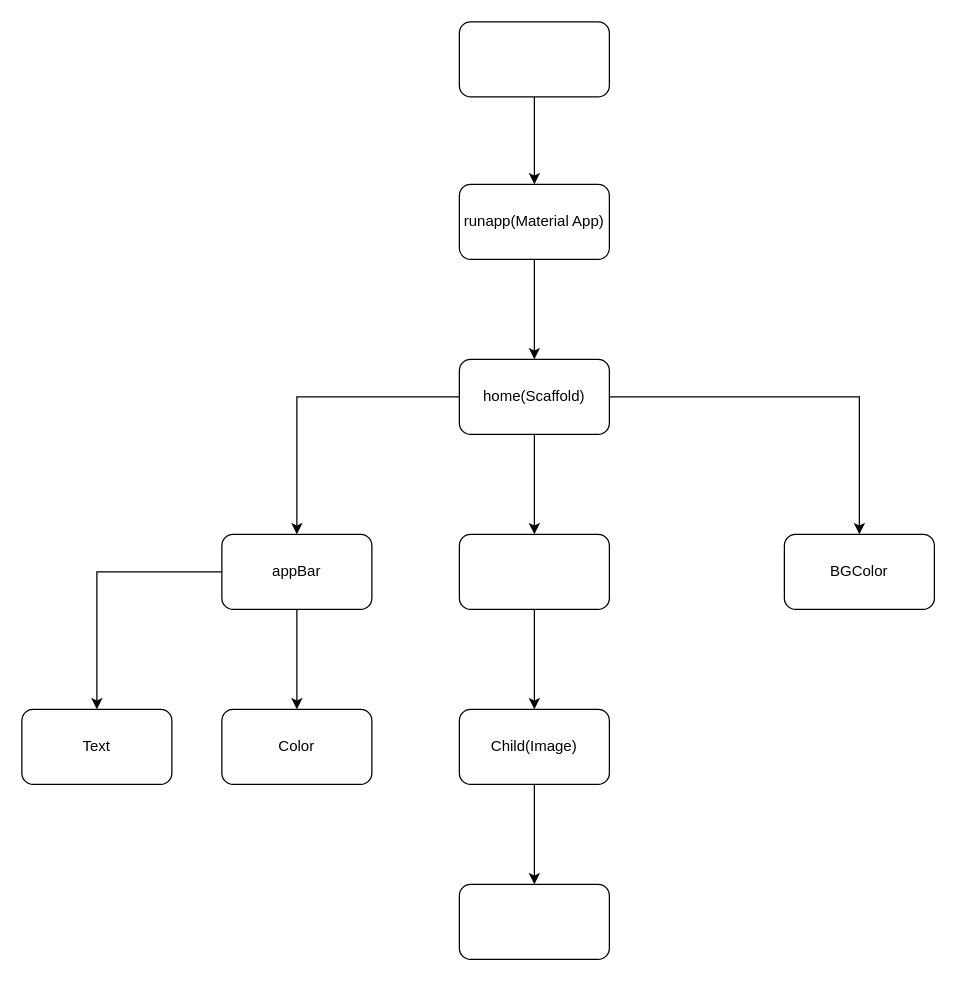
Image size: 956x981. Some labels were removed from this diagram. The centre of each missing label's shape, as x and y in pixels:
"Center(body)" goes at point 533,571.
"Main" goes at point 533,59.
"NetworkImage" goes at point 533,921.
